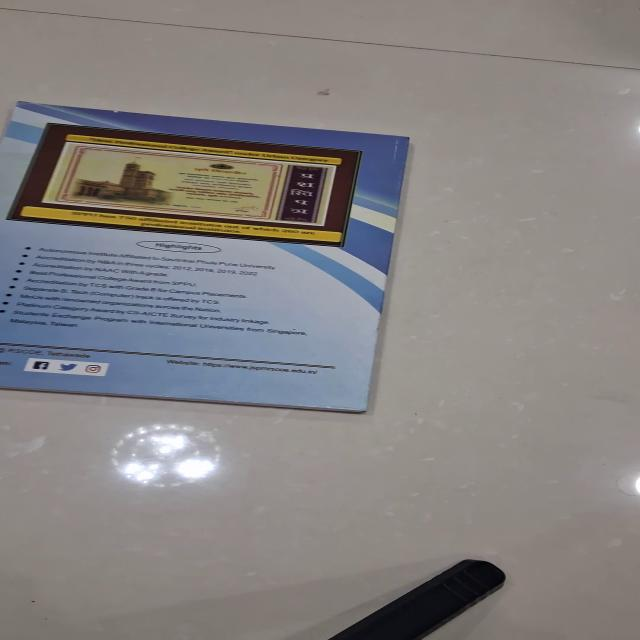paper: (1, 101, 410, 413)
